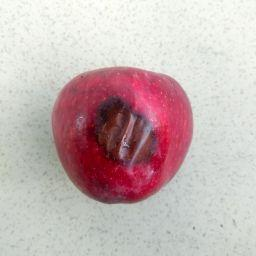apple: (35, 53, 211, 210)
